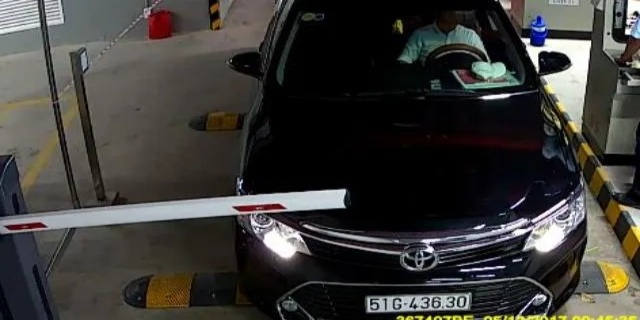bien_so: (365, 293, 473, 312)
